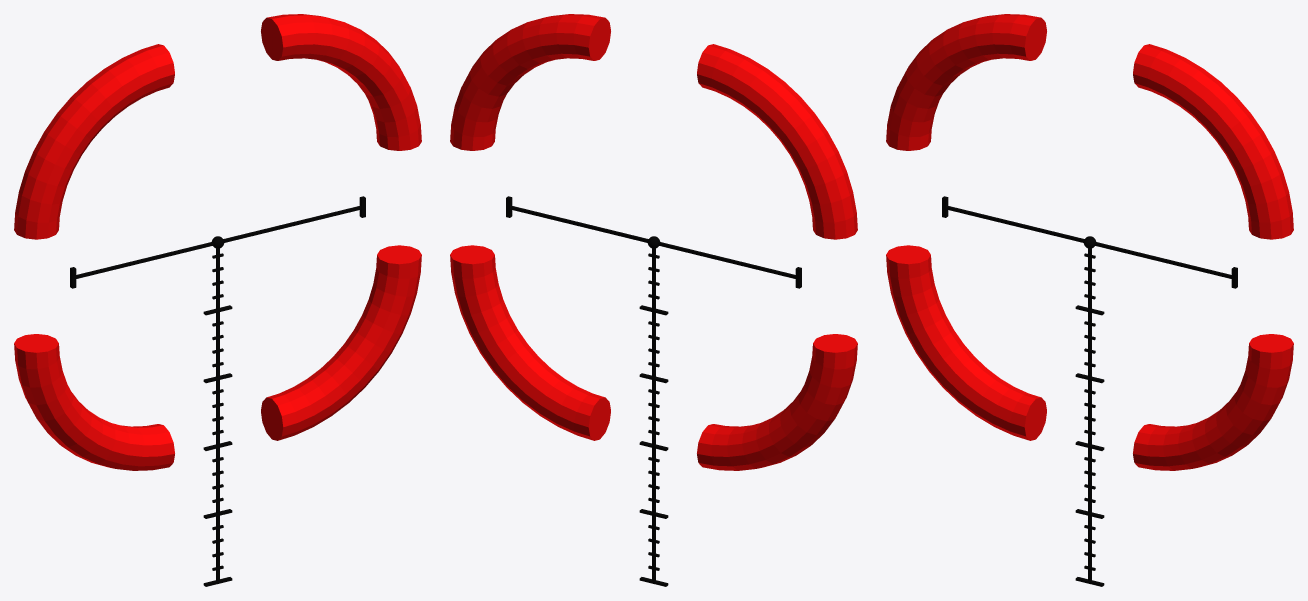
The model's file is WormsReticle.obj.
The picture shows the model from 3 angles, left to right: view 1: azimuth 30°, elevation 25°; view 2: azimuth 150°, elevation 25°; view 3: azimuth 330°, elevation 25°; orthographic projection.
Parts seen in each view (by area): view 1: Sphere, Sphere.002; view 2: Sphere, Sphere.002; view 3: Sphere, Sphere.002.
Boxes of the visible parts, box(x1,y1,x2,y2) form: Sphere: box(14, 14, 421, 470); Sphere.002: box(70, 196, 365, 586); Sphere: box(450, 14, 857, 470); Sphere.002: box(506, 196, 801, 586); Sphere: box(886, 14, 1293, 470); Sphere.002: box(942, 196, 1237, 586).
Bounding box in the file's own units: 3.1 × 4.06 × 0.3.
